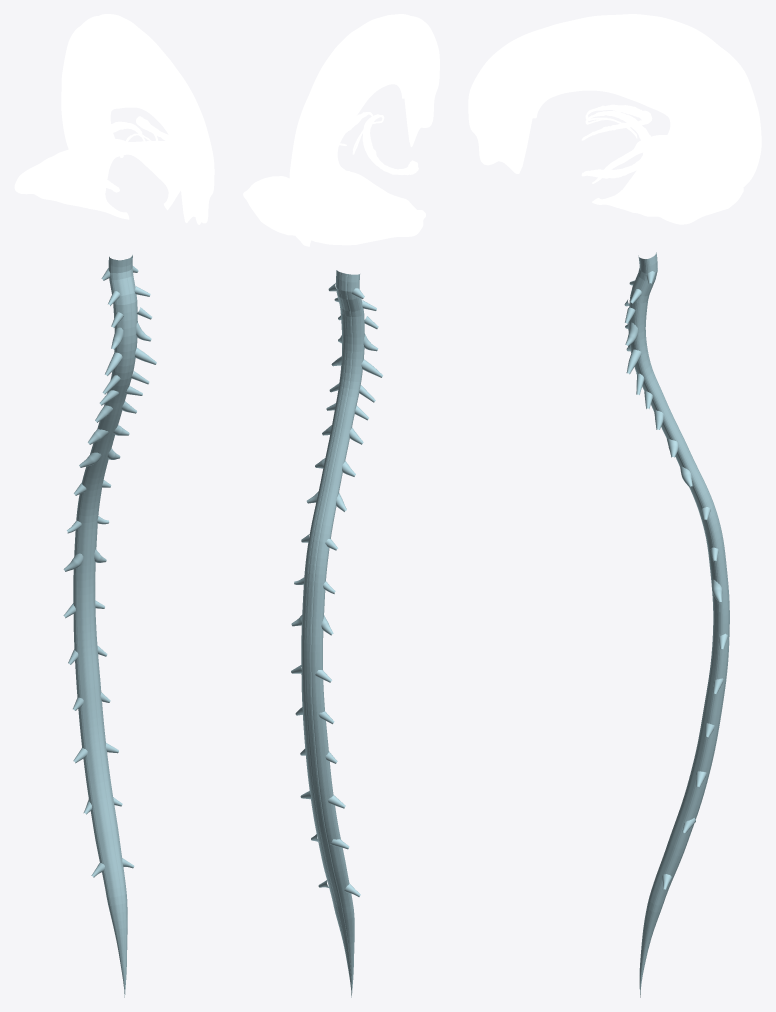
The model's file is meninges.glb.
The picture shows the model from 3 angles, left to right: view 1: azimuth 30°, elevation 25°; view 2: azimuth 150°, elevation 25°; view 3: azimuth 270°, elevation 25°; orthographic projection. The views are drawn at different scales.
Parts seen in each view (by area): view 1: Spinal dura, Falx cerebri, Tentorium cerebelli.r, Tentorium cerebelli.l, Choroid plexus.r; view 2: Spinal dura, Falx cerebri, Tentorium cerebelli.r, Tentorium cerebelli.l, Choroid plexus.r; view 3: Falx cerebri, Spinal dura, Tentorium cerebelli.l, Choroid plexus.l, Choroid plexus.r.
Part boxes in pixels (<box>): Spinal dura: <box>63,255,156,997</box>; Falx cerebri: <box>61,14,214,224</box>; Tentorium cerebelli.r: <box>14,140,129,219</box>; Tentorium cerebelli.l: <box>115,139,180,210</box>; Choroid plexus.r: <box>78,121,147,192</box>; Spinal dura: <box>291,270,382,997</box>; Falx cerebri: <box>289,14,439,246</box>; Tentorium cerebelli.r: <box>304,171,425,245</box>; Tentorium cerebelli.l: <box>243,176,300,235</box>; Choroid plexus.r: <box>353,114,418,175</box>; Falx cerebri: <box>468,14,761,186</box>; Spinal dura: <box>624,252,729,997</box>; Tentorium cerebelli.l: <box>592,147,743,224</box>; Choroid plexus.l: <box>581,111,652,178</box>; Choroid plexus.r: <box>581,104,652,140</box>.
Bounding box in the file's own units: 0.1207 × 0.6458 × 0.1748.
